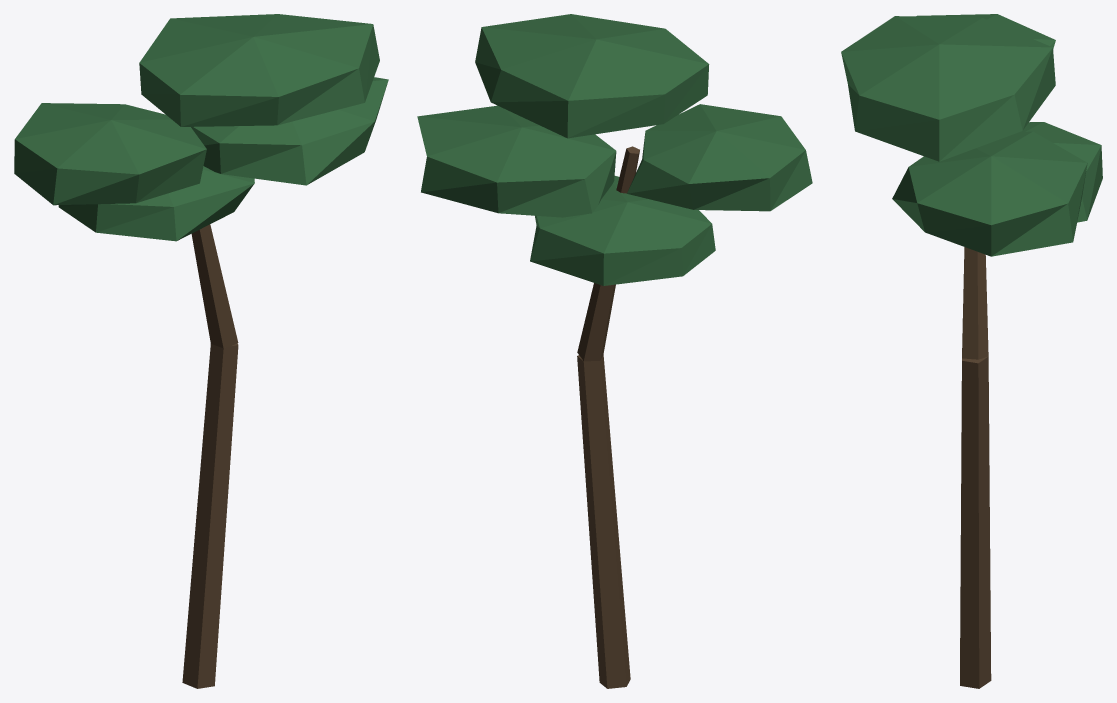
File: matsu.glb
3 views of the same model, side by side, from view 1: azimuth 30°, elevation 25°; view 2: azimuth 150°, elevation 25°; view 3: azimuth 270°, elevation 25° (orthographic). The views are drawn at different scales.
Visible parts, largest first — view 1: matsu; view 2: matsu; view 3: matsu.
Part boxes in pixels (x1=…): matsu: x1=14, y1=14, x2=388, y2=688; matsu: x1=417, y1=14, x2=812, y2=688; matsu: x1=841, y1=14, x2=1102, y2=688.
Bounding box in the file's own units: 5.03 × 8.37 × 3.03.
